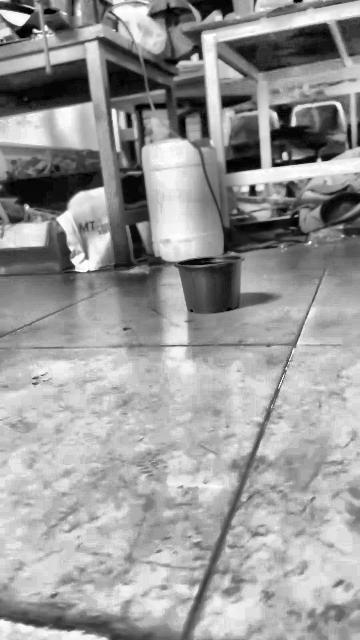pot: (175, 256, 243, 313)
